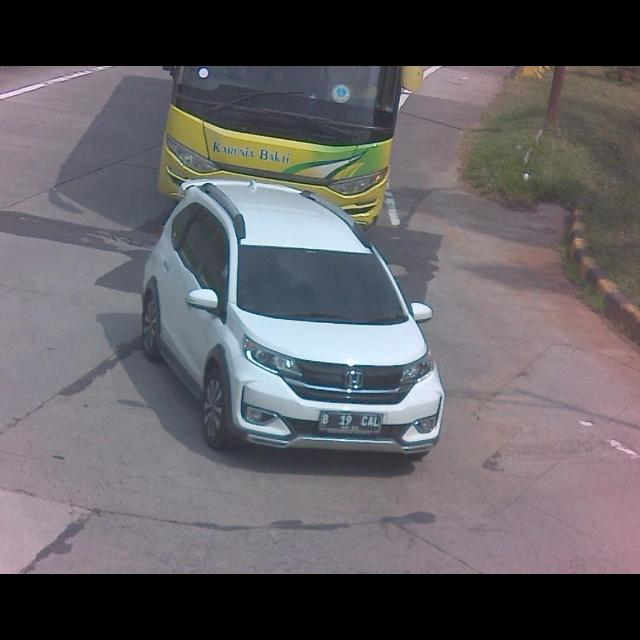plate: (318, 410, 384, 434)
